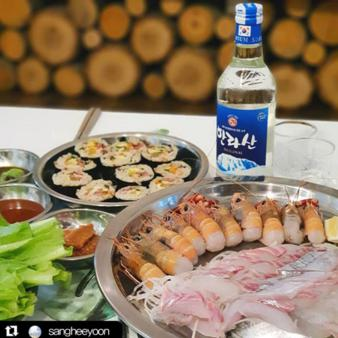soju: (215, 4, 275, 180)
